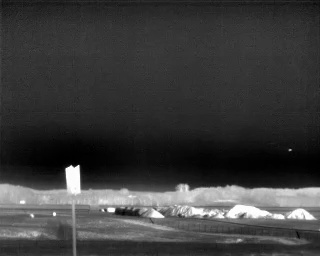BIRD: (287, 146, 294, 153)
